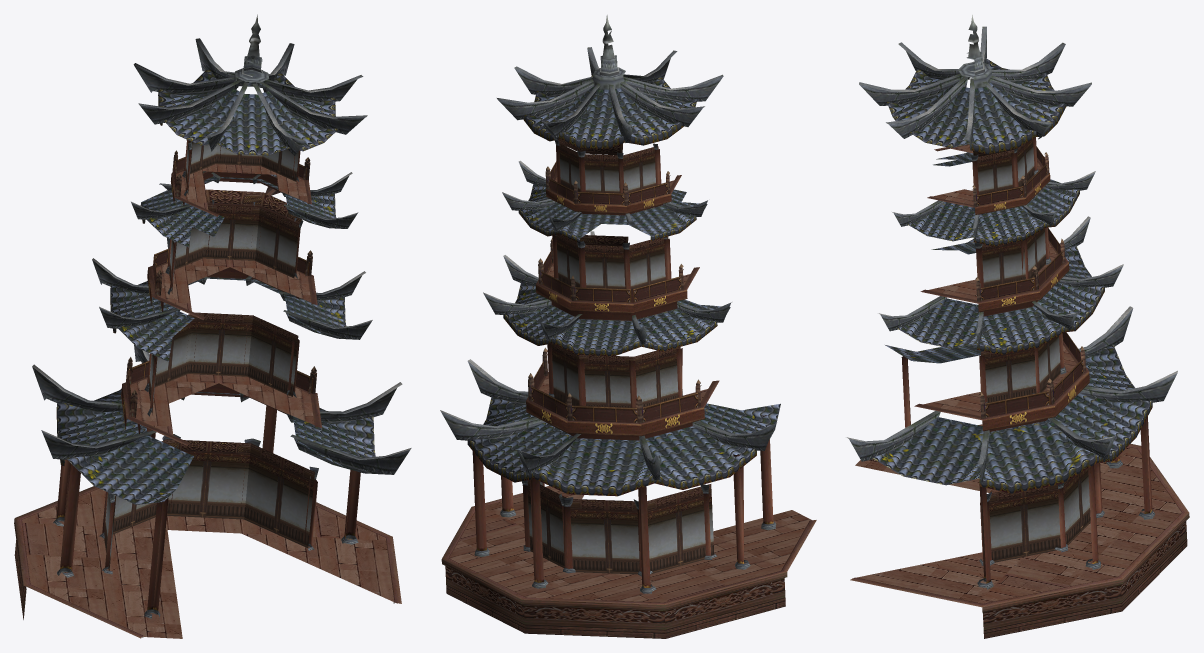
The model's file is S2_Build_XSC021c_H1.FBX.
The picture shows the model from 3 angles, left to right: view 1: azimuth 30°, elevation 25°; view 2: azimuth 150°, elevation 25°; view 3: azimuth 270°, elevation 25°; orthographic projection. The views are drawn at different scales.
Parts seen in each view (by area): view 1: S2_Build_XSC021c_H1; view 2: S2_Build_XSC021c_H1; view 3: S2_Build_XSC021c_H1.
Part boxes in pixels (x1,y1,x2,y2): S2_Build_XSC021c_H1: (14,14,411,638); S2_Build_XSC021c_H1: (440,15,816,638); S2_Build_XSC021c_H1: (846,15,1189,638).
Size of the model in its own units: 9812 by 15520 by 8599.
